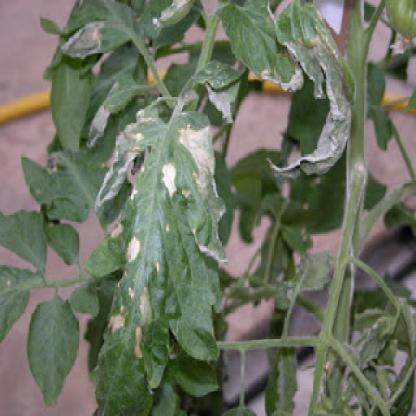Tomato leaf late blight: (87, 99, 228, 411)
